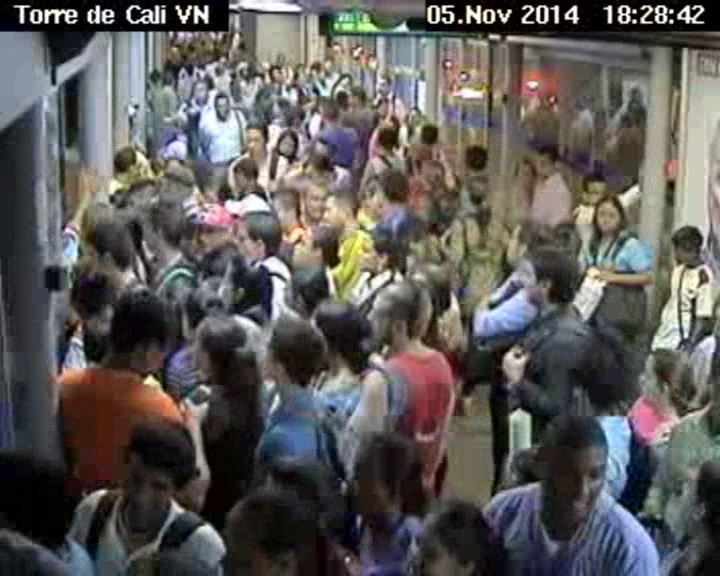person: (210, 485, 342, 576), (531, 408, 619, 536), (113, 411, 199, 533), (346, 418, 432, 531), (403, 489, 510, 576), (360, 273, 447, 367), (105, 281, 175, 382), (182, 308, 261, 391), (511, 236, 586, 321), (261, 308, 327, 398), (305, 292, 369, 382), (635, 343, 705, 424), (76, 214, 139, 288), (677, 451, 720, 556), (137, 193, 189, 262), (231, 205, 284, 269), (184, 198, 237, 260), (217, 261, 273, 319), (501, 215, 556, 272), (279, 261, 332, 311), (666, 219, 710, 273), (360, 222, 399, 279), (319, 185, 364, 231), (460, 172, 493, 224), (590, 193, 628, 237), (299, 179, 332, 226), (379, 166, 414, 209), (535, 143, 565, 181), (160, 164, 196, 195), (581, 169, 610, 207), (511, 154, 539, 193), (275, 125, 300, 165), (244, 118, 270, 156), (375, 121, 401, 158), (231, 152, 257, 186), (212, 89, 232, 120), (192, 76, 209, 106), (322, 101, 341, 123), (374, 72, 392, 94), (404, 103, 422, 123), (333, 70, 353, 87), (267, 63, 285, 80)
